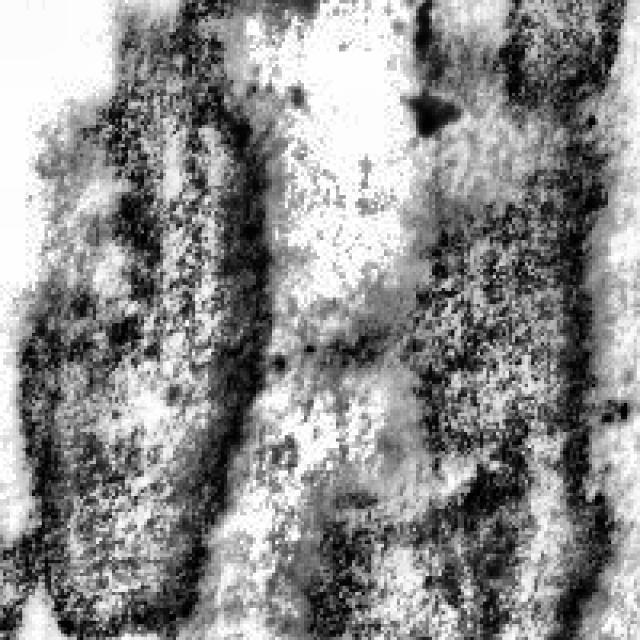Scratches: (326, 0, 604, 630), (19, 0, 275, 630)
